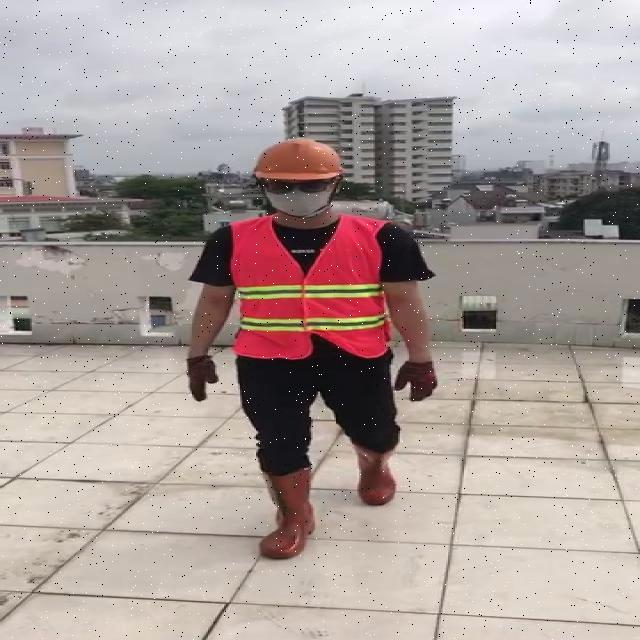Hard_hat: (245, 133, 346, 190)
Person: (178, 105, 442, 571)
Vest: (228, 211, 389, 360)
